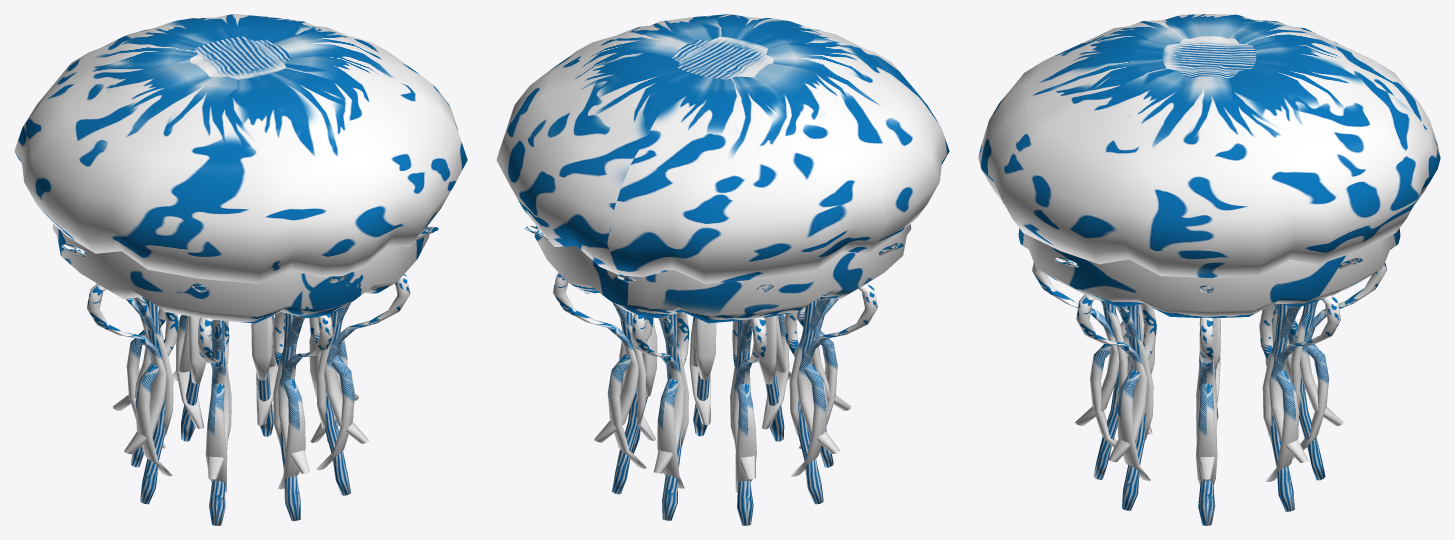
File: Jellyfish.obj
3 renders of one model, left to right at view 1: azimuth 30°, elevation 25°; view 2: azimuth 150°, elevation 25°; view 3: azimuth 270°, elevation 25°, orthographic.
Parts seen in each view (by area): view 1: group5 group15 polySurface44, group5 group15 polySurface46, group15 group14 T27, group15 group14 T34, group15 group14 T11, group15 group14 T26, group15 group14 T35, group15 group14 T30, group15 group14 T31, group15 group14 T10, group15 group14 T29, group15 group14 T13 (+14 smaller); view 2: group5 group15 polySurface44, group5 group15 polySurface46, group15 group14 T27, group15 group14 T18, group15 group14 T15, group15 group14 T26, group15 group14 T19, group15 group14 T22, group15 group14 T23, group15 group14 T14, group15 group14 T29, group15 group14 T17 (+15 smaller); view 3: group5 group15 polySurface44, group5 group15 polySurface46, group15 group14 T14, group15 group14 T10, group15 group14 T15, group15 group14 T11, group15 group14 T35, group15 group14 T19, group15 group14 T8, group15 group14 T9, group15 group14 T17, group15 group14 T13 (+9 smaller).
Part boxes in pixels (box(x1,y1,x2,y2)): group5 group15 polySurface44: box(14, 14, 467, 283); group5 group15 polySurface46: box(52, 37, 429, 323); group15 group14 T27: box(86, 283, 166, 454); group15 group14 T34: box(272, 312, 305, 489); group15 group14 T11: box(324, 274, 410, 443); group15 group14 T26: box(135, 311, 178, 476); group15 group14 T35: box(278, 314, 333, 473); group15 group14 T30: box(205, 320, 229, 492); group15 group14 T31: box(198, 317, 229, 479); group15 group14 T10: box(309, 317, 354, 470); group15 group14 T29: box(140, 298, 164, 504); group15 group14 T13: box(325, 310, 350, 495); group5 group15 polySurface44: box(496, 14, 949, 283); group5 group15 polySurface46: box(534, 37, 911, 323); group15 group14 T27: box(797, 283, 877, 453); group15 group14 T18: box(657, 312, 689, 488); group15 group14 T15: box(552, 273, 638, 442); group15 group14 T26: box(784, 312, 827, 476); group15 group14 T19: box(631, 314, 684, 473); group15 group14 T22: box(732, 321, 756, 492); group15 group14 T23: box(732, 317, 766, 479); group15 group14 T14: box(607, 317, 653, 468); group15 group14 T29: box(798, 298, 823, 504); group15 group14 T17: box(612, 310, 637, 494); group5 group15 polySurface44: box(978, 14, 1440, 277); group5 group15 polySurface46: box(1018, 14, 1400, 318); group15 group14 T14: box(1259, 303, 1299, 481); group15 group14 T10: box(1117, 303, 1156, 480); group15 group14 T15: box(1269, 295, 1340, 462); group15 group14 T11: box(1076, 294, 1147, 461); group15 group14 T35: box(1031, 262, 1119, 425); group15 group14 T19: box(1300, 262, 1386, 425); group15 group14 T8: box(1196, 317, 1217, 479); group15 group14 T9: box(1196, 320, 1217, 485); group15 group14 T17: box(1271, 304, 1294, 511); group15 group14 T13: box(1122, 304, 1145, 510).
Size of the model in its own units: 6.01 by 6.26 by 6.2.
